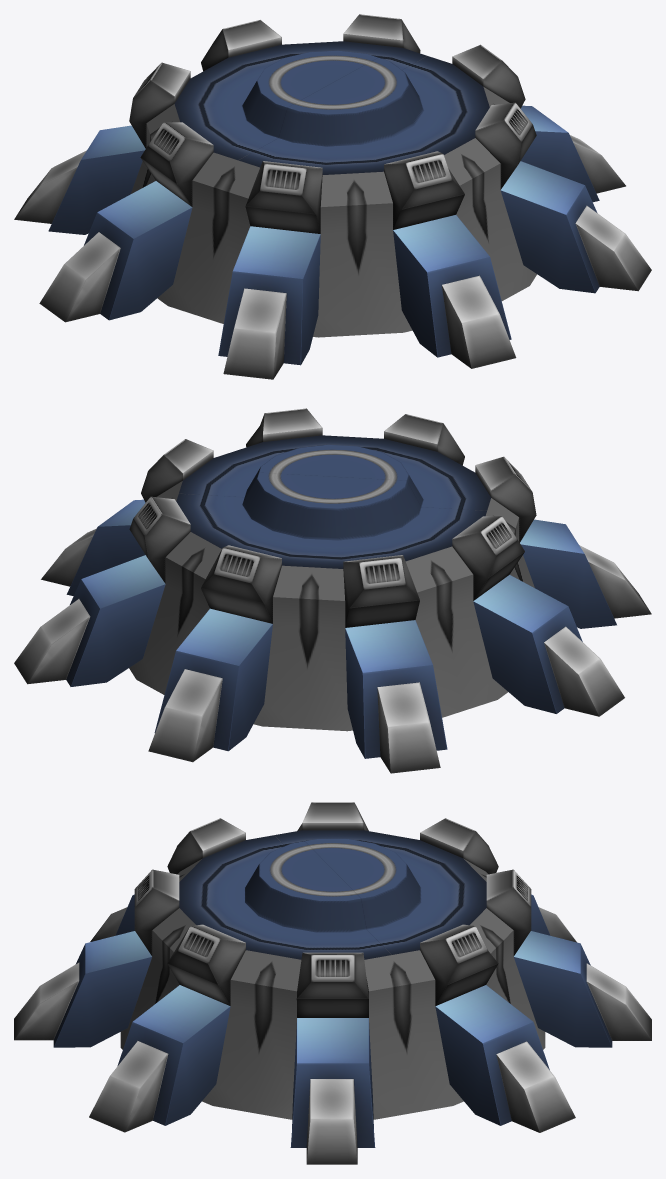
The model's file is Turret_Base.obj.
The picture shows the model from 3 angles, top to bottom: view 1: azimuth 30°, elevation 25°; view 2: azimuth 150°, elevation 25°; view 3: azimuth 270°, elevation 25°; orthographic projection.
Parts seen in each view (by area): view 1: base Turret; view 2: base Turret; view 3: base Turret.
Part boxes in pixels (x1,y1,x2,y2): base Turret: (14,14,651,379); base Turret: (14,408,651,773); base Turret: (14,802,651,1164).
Bounding box in the file's own units: 3.49 × 0.966 × 3.49.
Materials: 1 (1 with a texture image).
